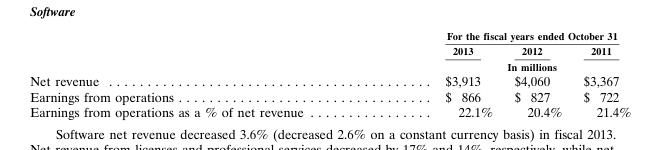table: (29, 28, 630, 119)
table column: (29, 28, 373, 119), (373, 28, 502, 119), (502, 28, 572, 119), (572, 28, 630, 119)
table column header: (29, 28, 630, 72)
table row: (29, 42, 630, 58), (29, 72, 630, 88), (29, 103, 630, 119), (29, 88, 630, 103), (29, 28, 630, 42), (29, 58, 630, 72)
table spanning cell: (373, 28, 630, 42), (373, 58, 630, 72)
